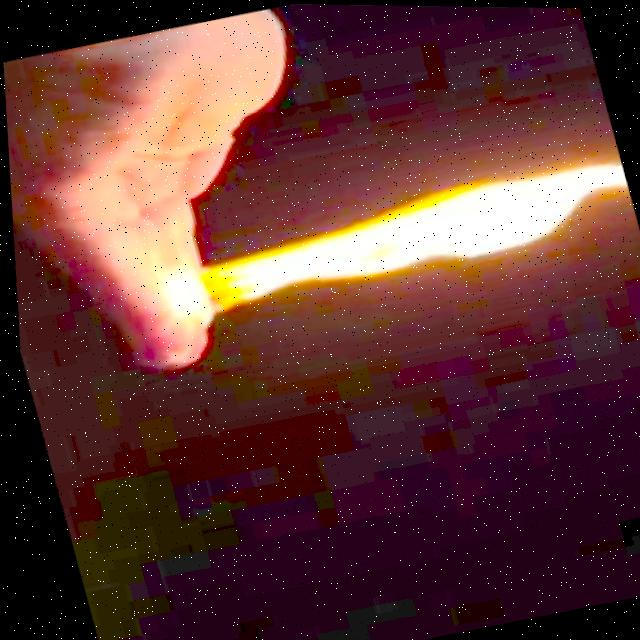Fire: (127, 129, 640, 341)
